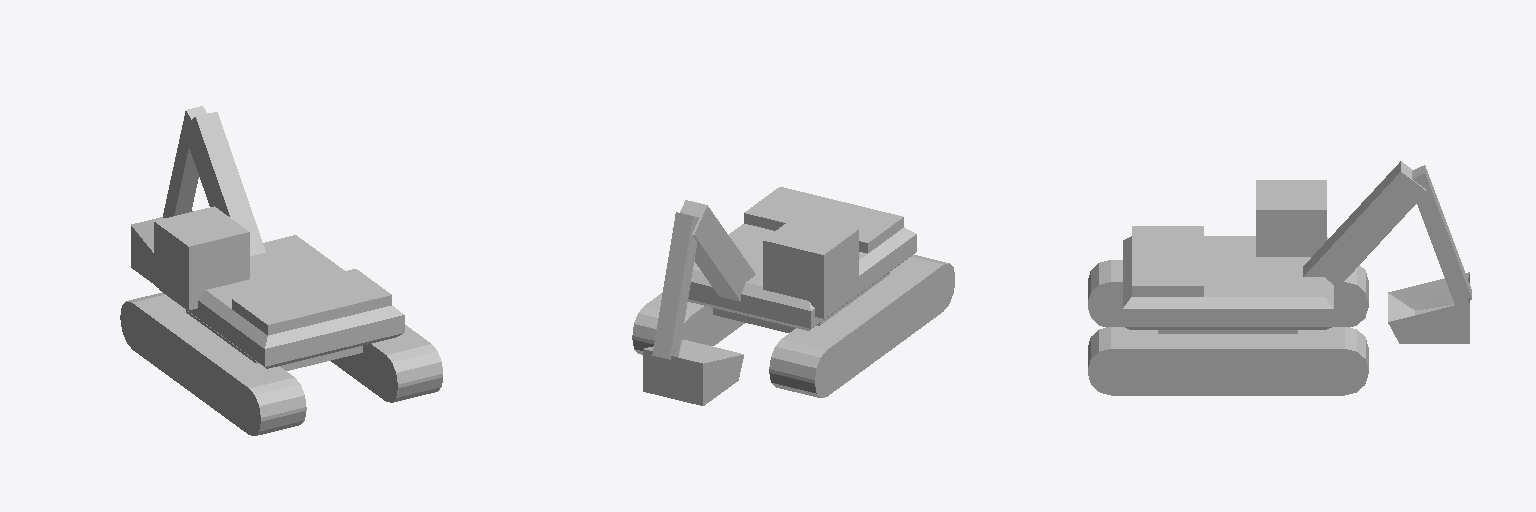
File: excavator.obj
3 renders of one model, left to right at view 1: azimuth 30°, elevation 25°; view 2: azimuth 150°, elevation 25°; view 3: azimuth 270°, elevation 25°, orthographic.
Visible parts, largest first — view 1: Cube.001_Cube.002, Cube; view 2: Cube.001_Cube.002, Cube; view 3: Cube.001_Cube.002, Cube.
Part boxes in pixels (left/top/right/bottom): Cube.001_Cube.002: left=131, top=106, right=404, bottom=368; Cube: left=120, top=292, right=442, bottom=435; Cube.001_Cube.002: left=643, top=187, right=916, bottom=405; Cube: left=632, top=254, right=954, bottom=397; Cube.001_Cube.002: left=1123, top=161, right=1471, bottom=343; Cube: left=1088, top=260, right=1368, bottom=395.
Bounding box in the file's own units: 6 × 5.97 × 10.95.